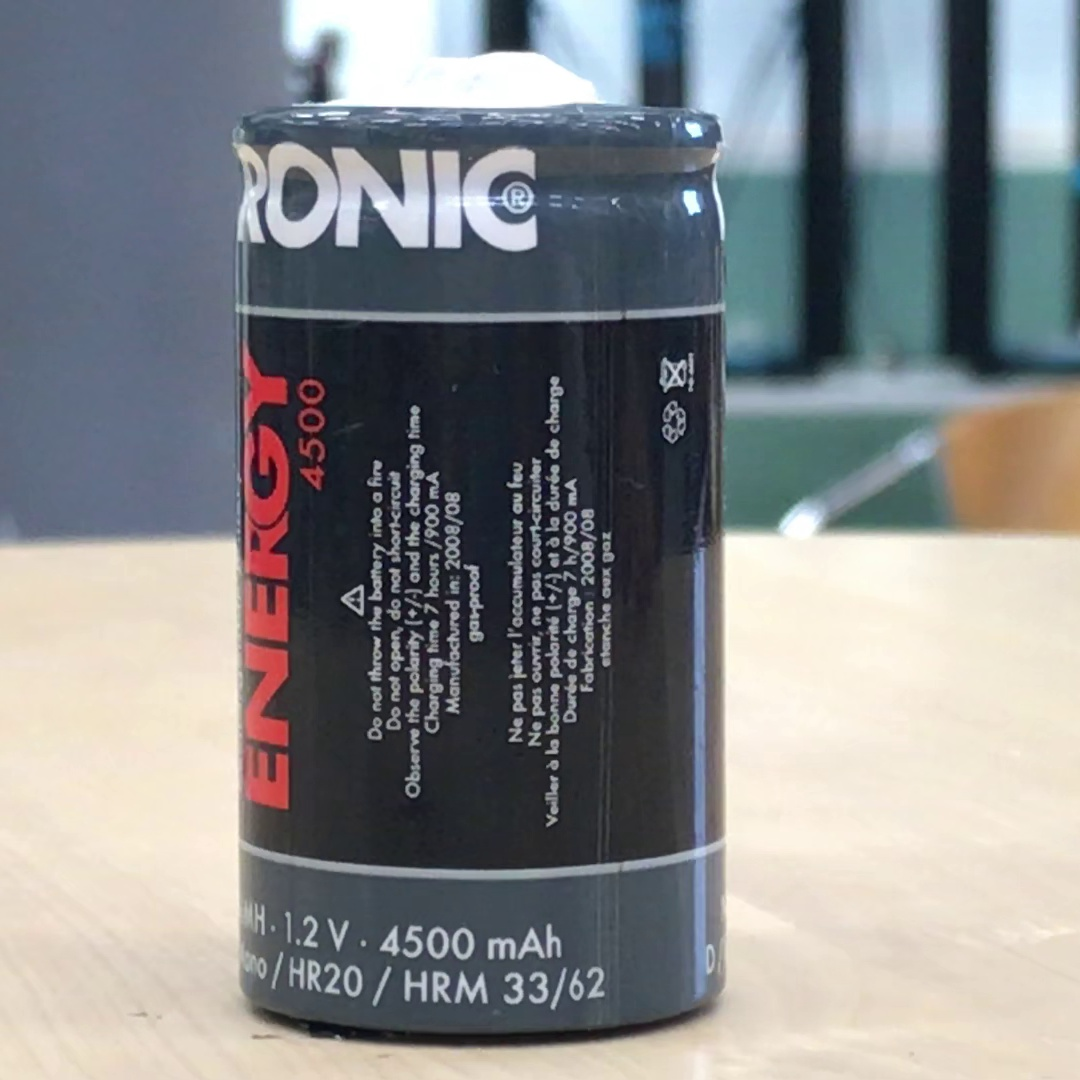keyword: (245, 909, 356, 952), (280, 956, 372, 998)
